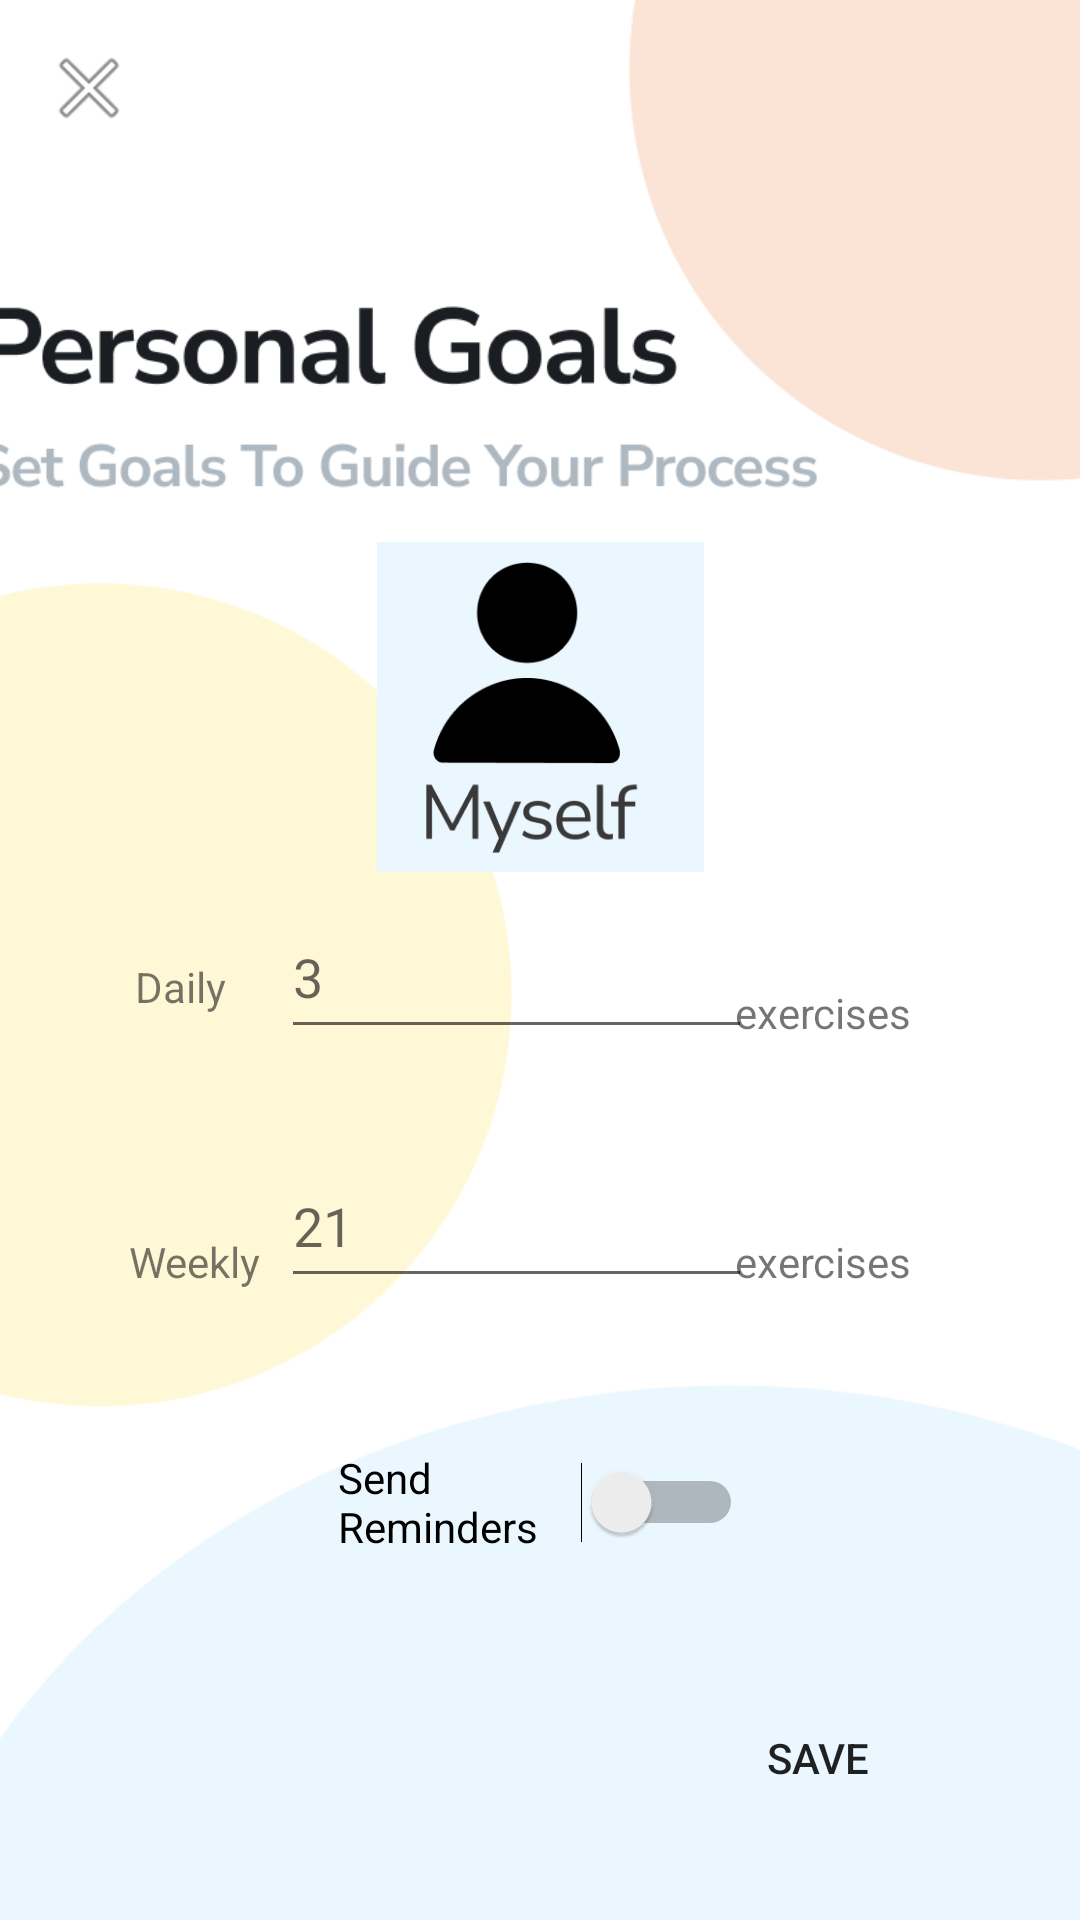

Icon click points for this 1080x1920 phone screenshot, format (x=x, y=y):
close clear cancel: (x=89, y=88)
